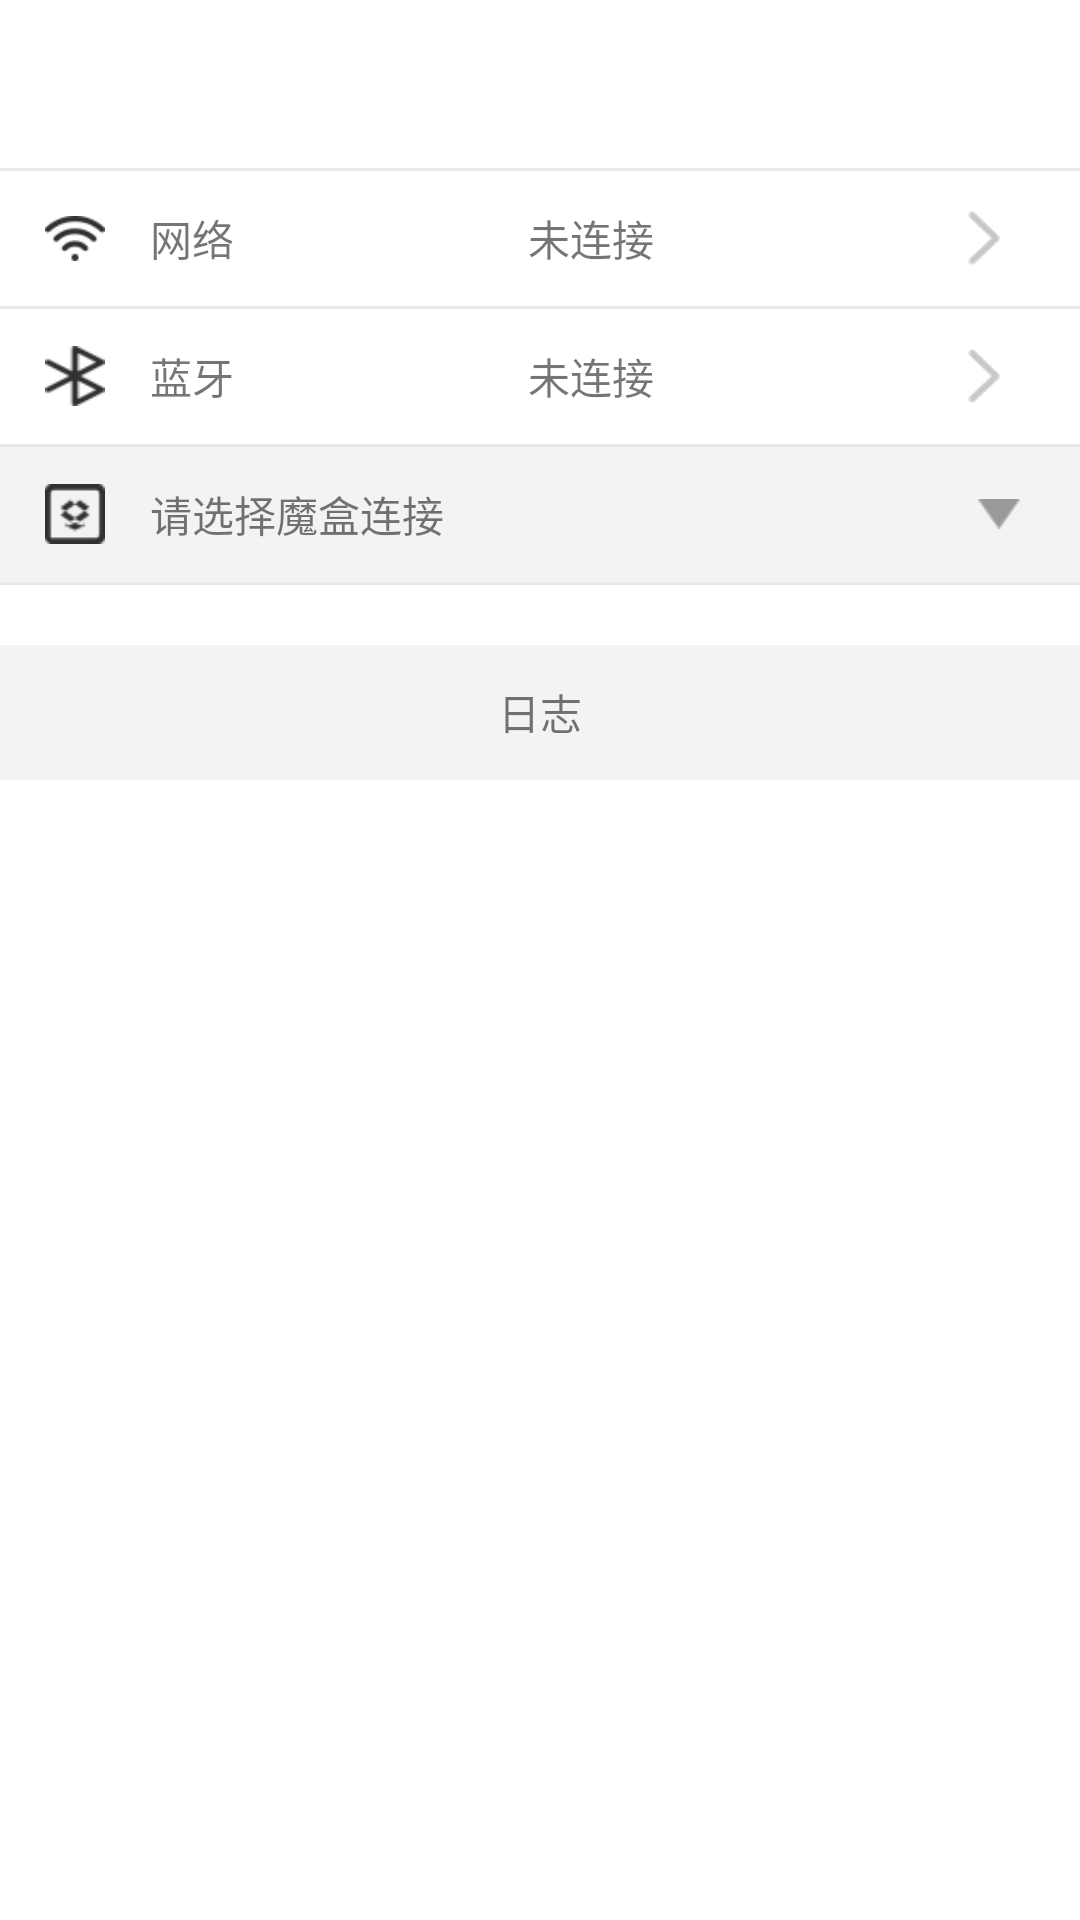

Icon click points for this 1080px x 1920px phone screenshot, format [x,y]:
arrow down: [999,514]
arrow right: [984,238], [984,376]
network: [75,238]
